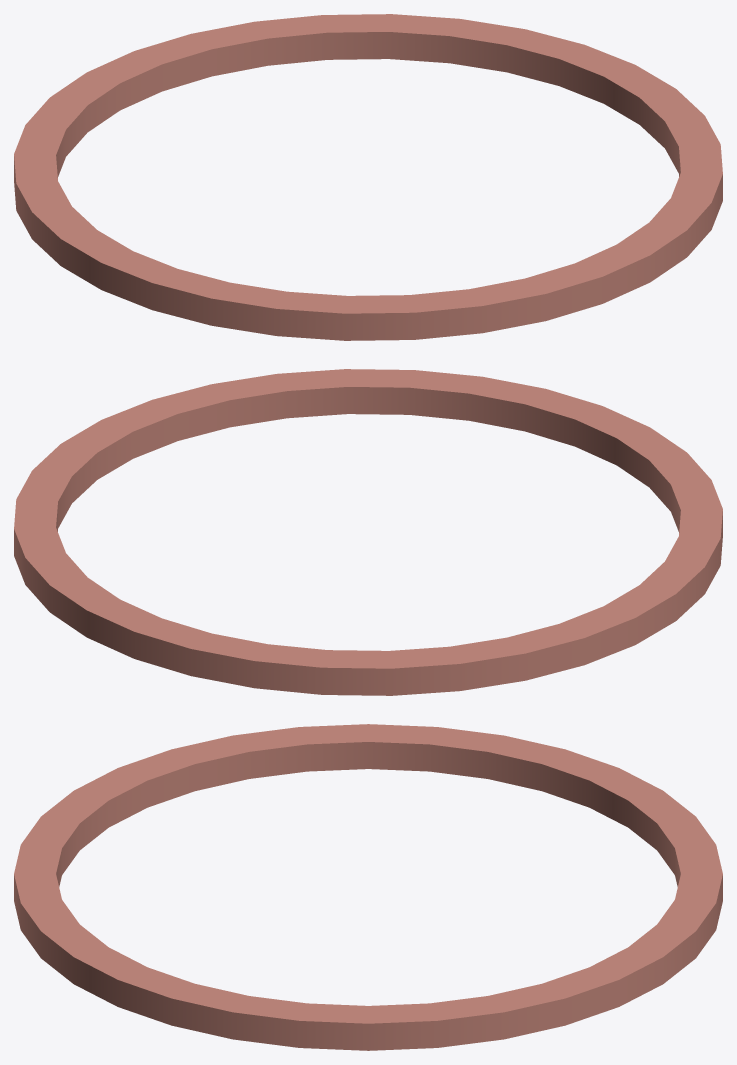
File: BasicPipeShape02.fbx
The picture shows the model from 3 angles, top to bottom: view 1: azimuth 30°, elevation 25°; view 2: azimuth 150°, elevation 25°; view 3: azimuth 270°, elevation 25°; orthographic projection.
Visible parts, largest first — view 1: BasicPipeShape02.001; view 2: BasicPipeShape02.001; view 3: BasicPipeShape02.001.
Boxes of the visible parts, bbox=[...] form: BasicPipeShape02.001: bbox=[14, 14, 722, 340]; BasicPipeShape02.001: bbox=[14, 369, 722, 695]; BasicPipeShape02.001: bbox=[14, 724, 722, 1050].
Bounding box in the file's own units: 290 × 12.25 × 290.
